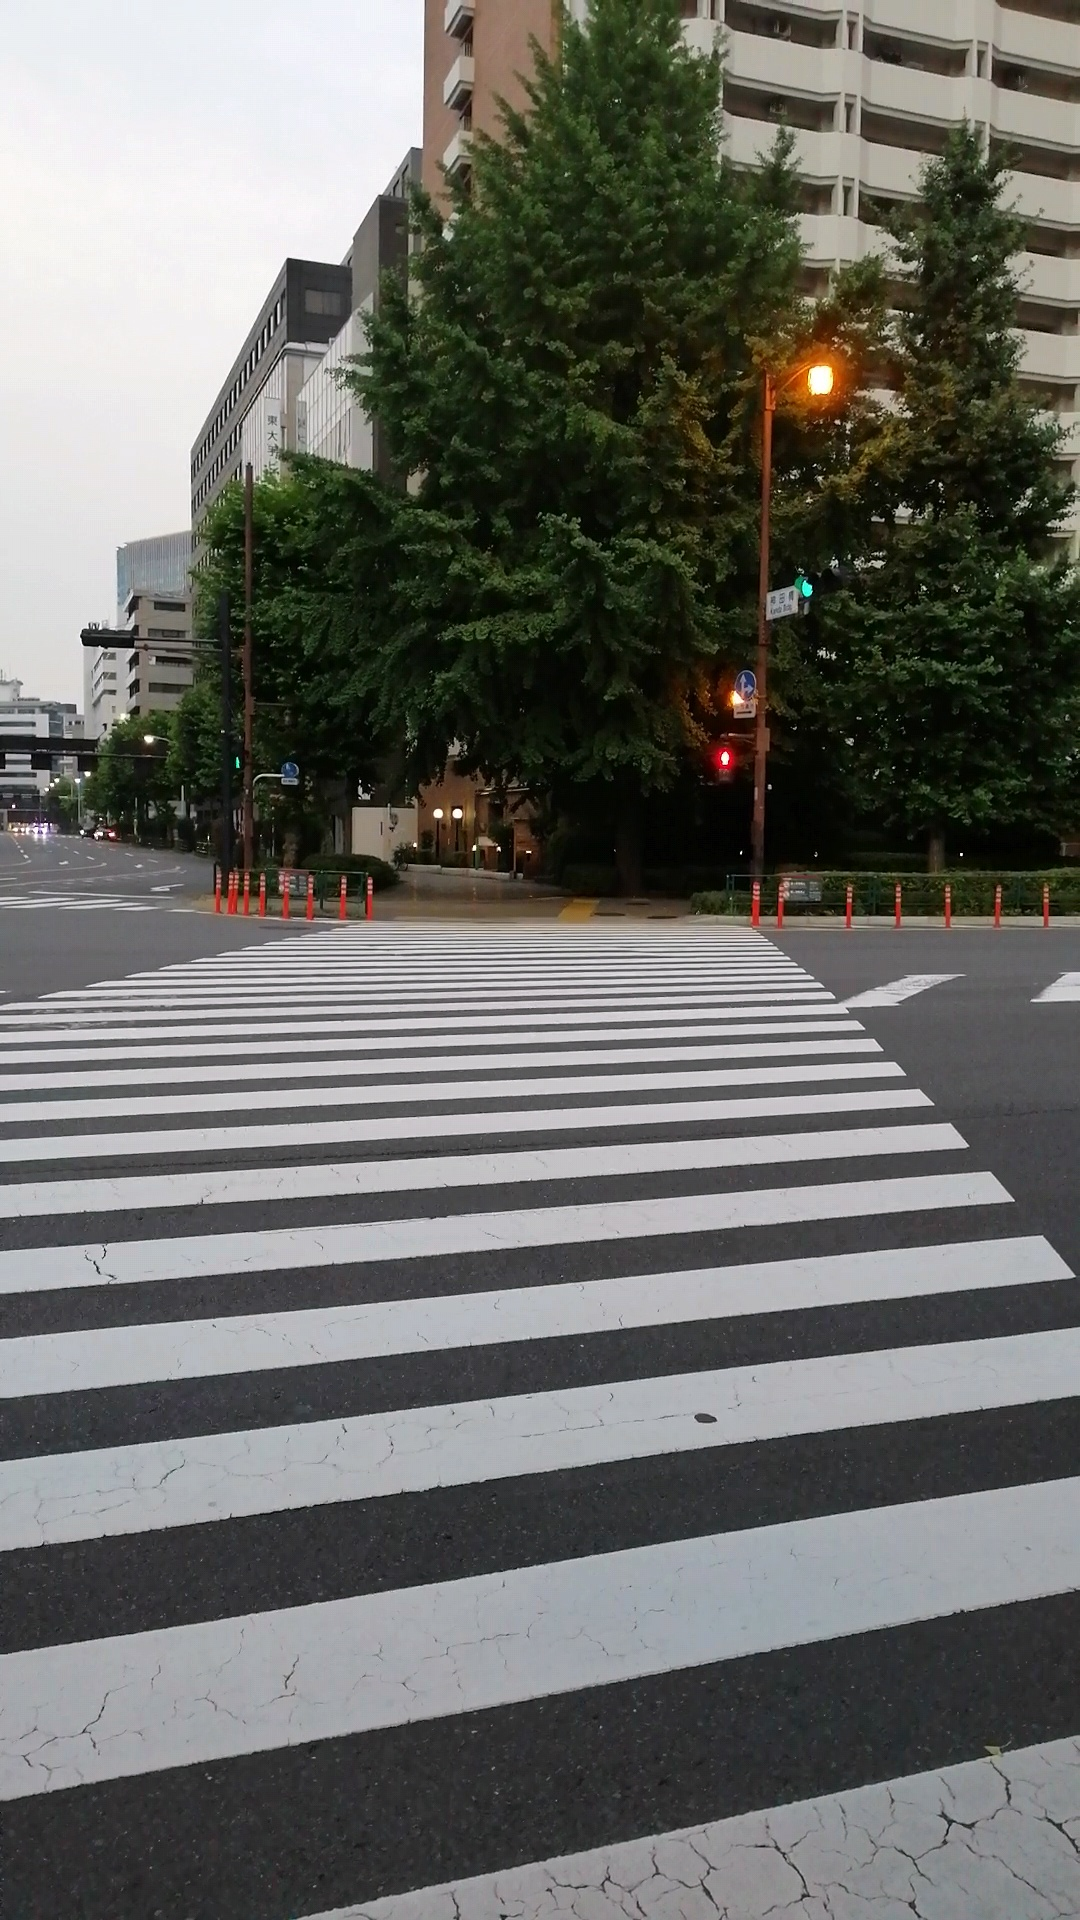red: (709, 742, 738, 789)
